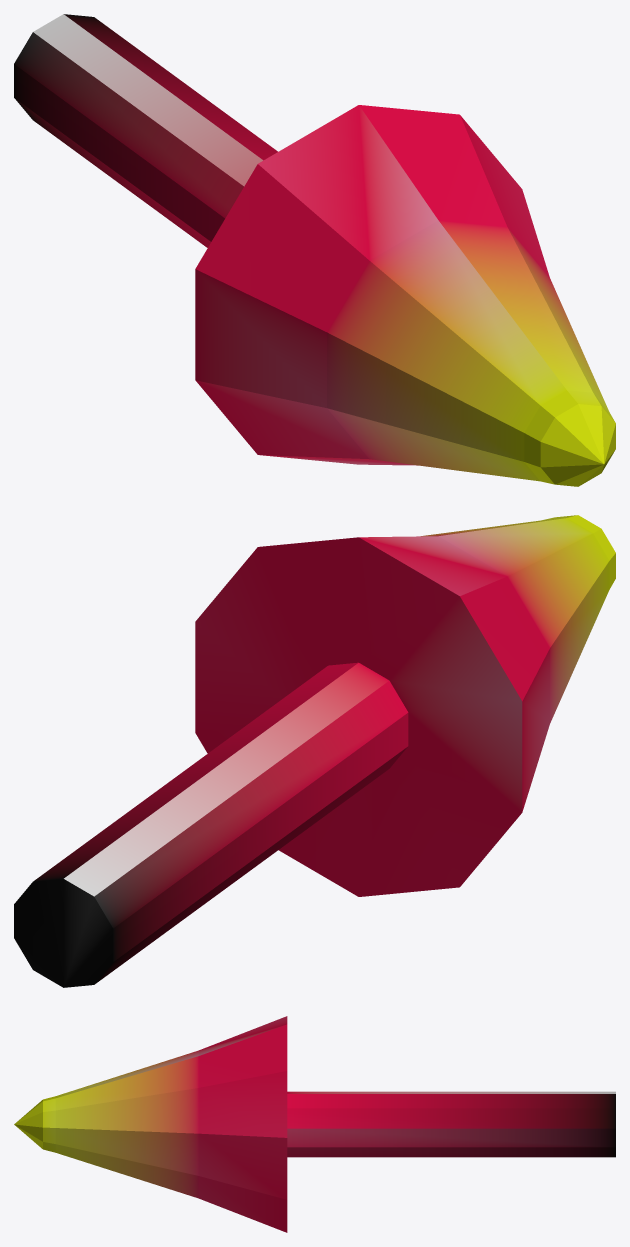
Rendered from Bazooka Rocket.fbx.
3 views of the same model, one above another, from view 1: azimuth 30°, elevation 25°; view 2: azimuth 150°, elevation 25°; view 3: azimuth 270°, elevation 25° (orthographic). The views are drawn at different scales.
Parts seen in each view (by area): view 1: Rocket; view 2: Rocket; view 3: Rocket.
Part boxes in pixels (x1=…): Rocket: x1=14, y1=14, x2=615, y2=486; Rocket: x1=14, y1=515, x2=615, y2=987; Rocket: x1=14, y1=1016, x2=615, y2=1232.
Bounding box in the file's own units: 57.03 × 59.97 × 163.
